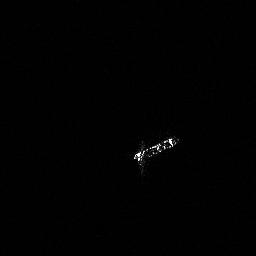ship: (129, 131, 183, 169)
